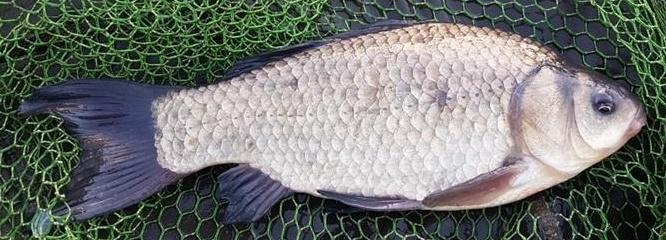Grass Carp: (17, 22, 639, 228)
